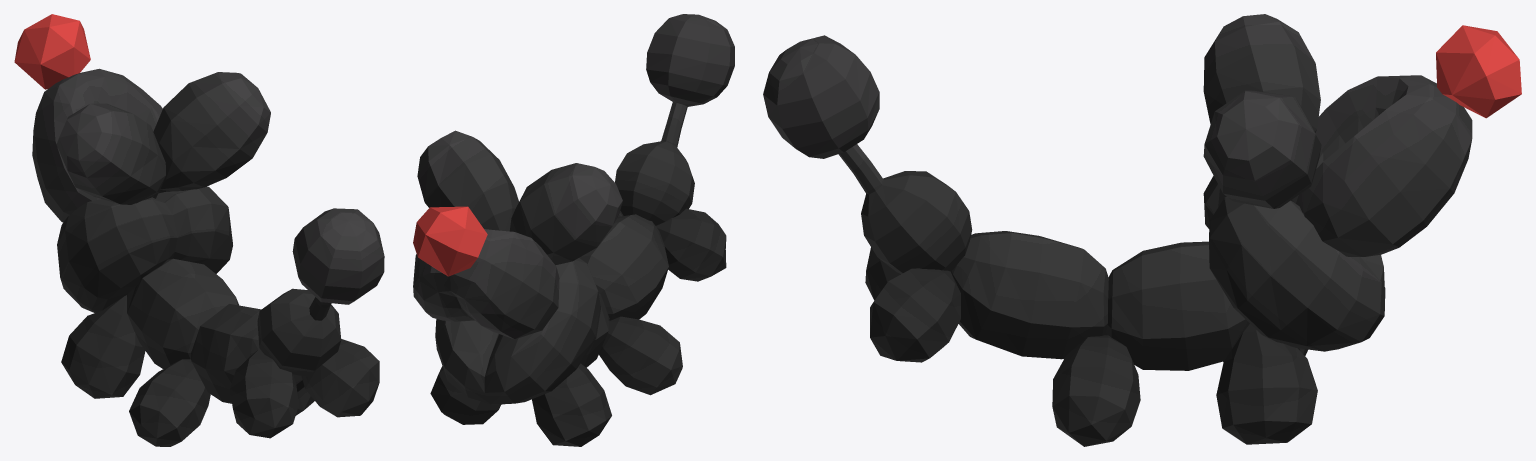
File: CharSkyKid_Horn_BalloonKrill.glb
3 views of the same model, side by side, from view 1: azimuth 30°, elevation 25°; view 2: azimuth 150°, elevation 25°; view 3: azimuth 270°, elevation 25° (orthographic). The views are drawn at different scales.
Parts seen in each view (by area): view 1: CharSkyKid_Horn_BalloonKrill; view 2: CharSkyKid_Horn_BalloonKrill; view 3: CharSkyKid_Horn_BalloonKrill.
Boxes of the visible parts, x1,y1,x2,y2 form: CharSkyKid_Horn_BalloonKrill: (14, 14, 384, 446); CharSkyKid_Horn_BalloonKrill: (413, 14, 734, 446); CharSkyKid_Horn_BalloonKrill: (763, 14, 1521, 446).
Bounding box in the file's own units: 2.31 × 3.33 × 6.19.
1 material, 1 textured.
